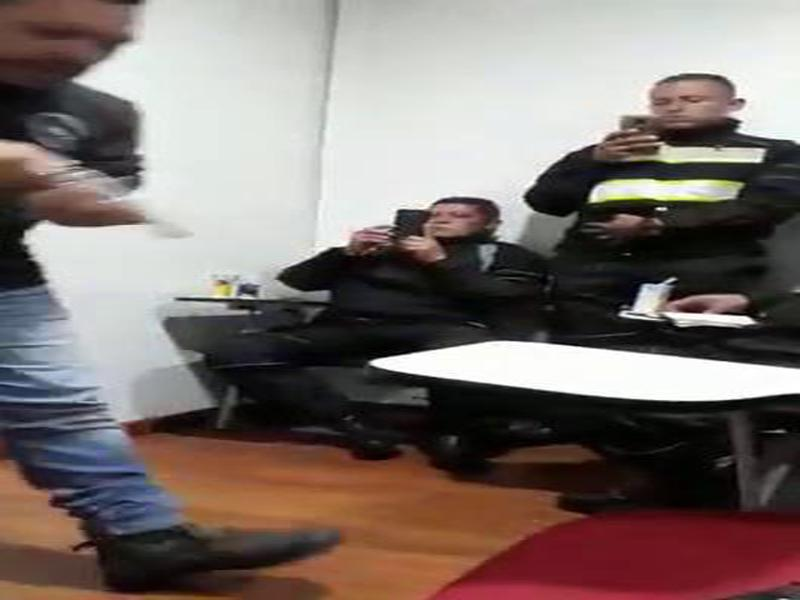Revolver: (1, 138, 219, 262)
